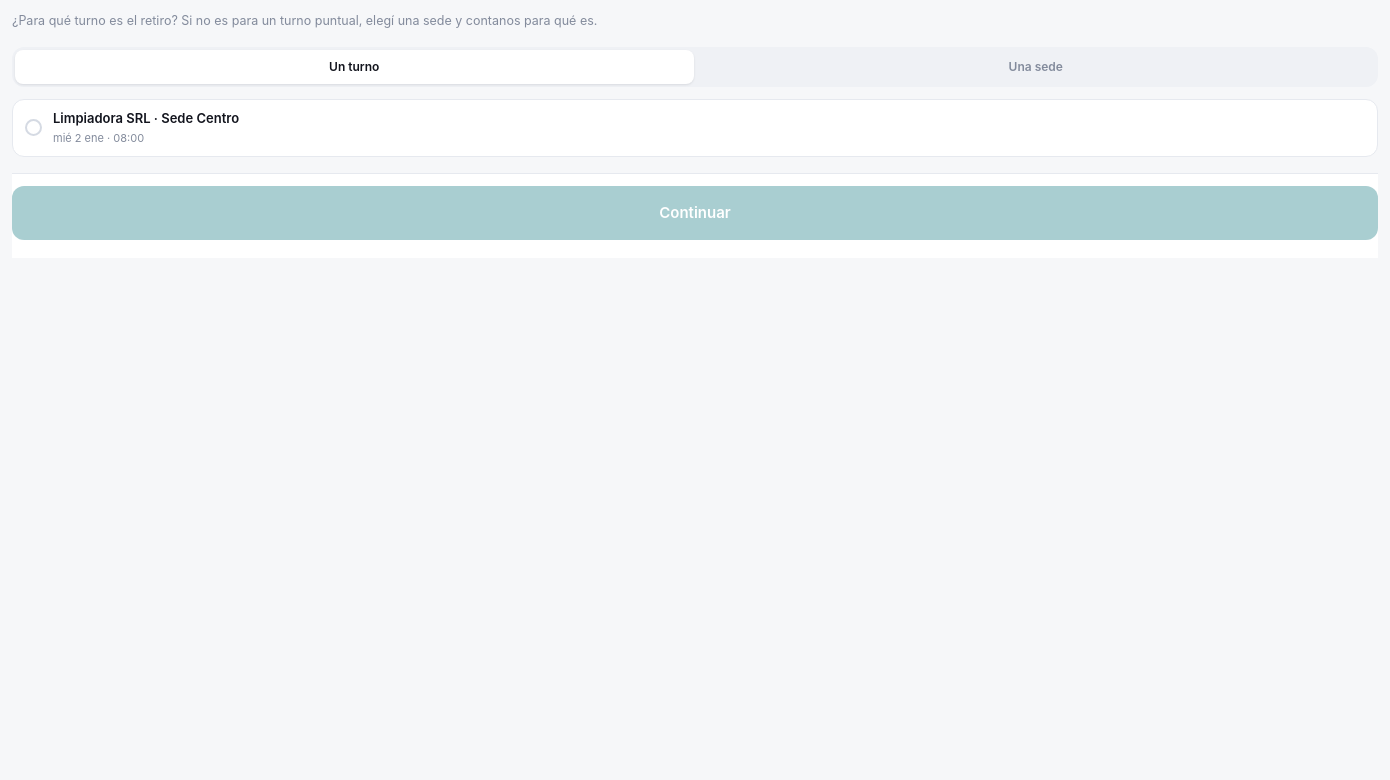
Test: WithdrawPage › un artículo «Sin stock» se ve con su etiqueta y no se puede elegir
The width and height of the screenshot is (1390, 780).
Click the radio button named "Limpiadora SRL · Sede Centro". click: coordinates (34, 128)
box: [25,119,42,136]
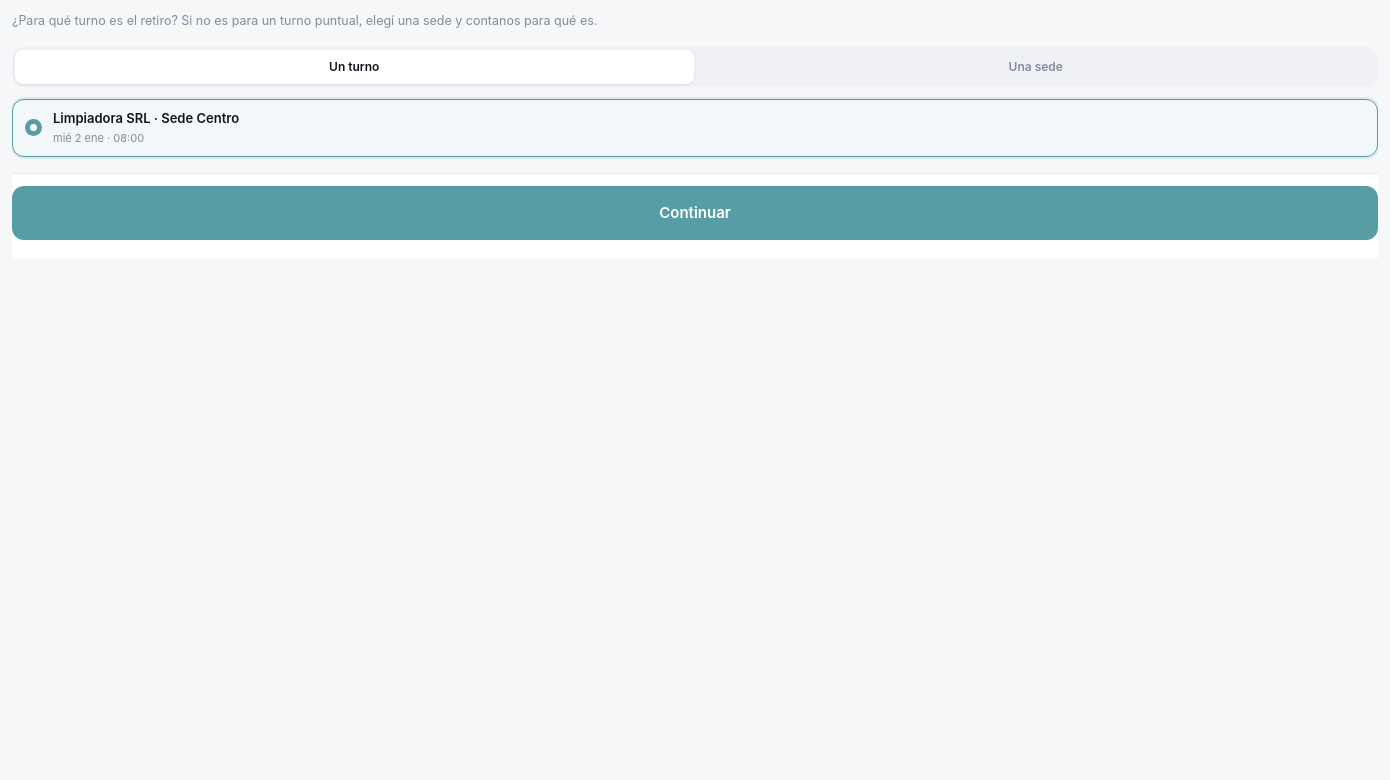
Click the button "Continuar". click: coordinates (695, 213)
box: [12,186,1378,240]
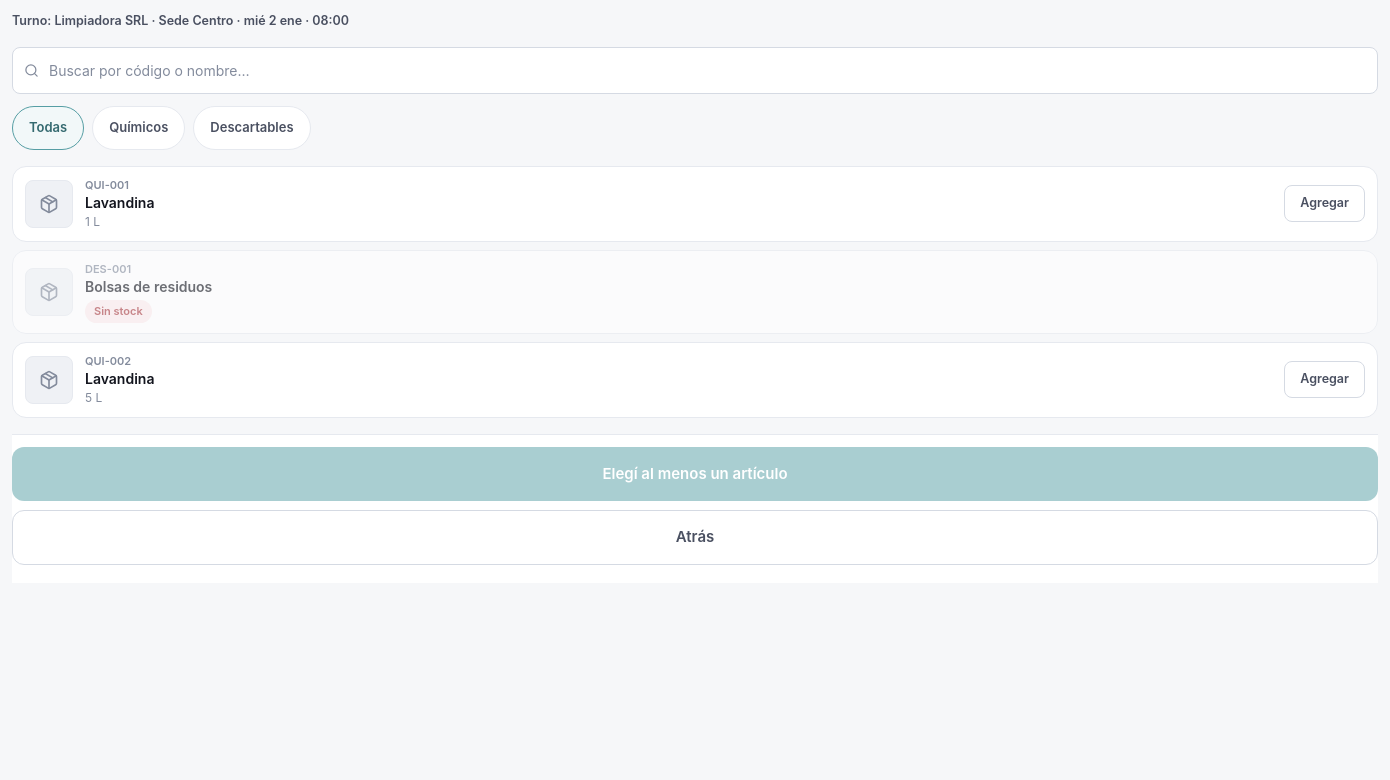
Check: the text "Sin stock" is shown, box [85,300,152,323]
